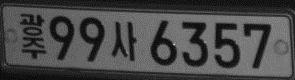3: (182, 20, 209, 67)
5: (214, 22, 241, 68)
6: (150, 20, 178, 66)
7: (243, 22, 272, 69)
9: (49, 14, 75, 61), (79, 16, 105, 62)
광주_V: (20, 12, 46, 59)
사: (111, 21, 137, 61)
